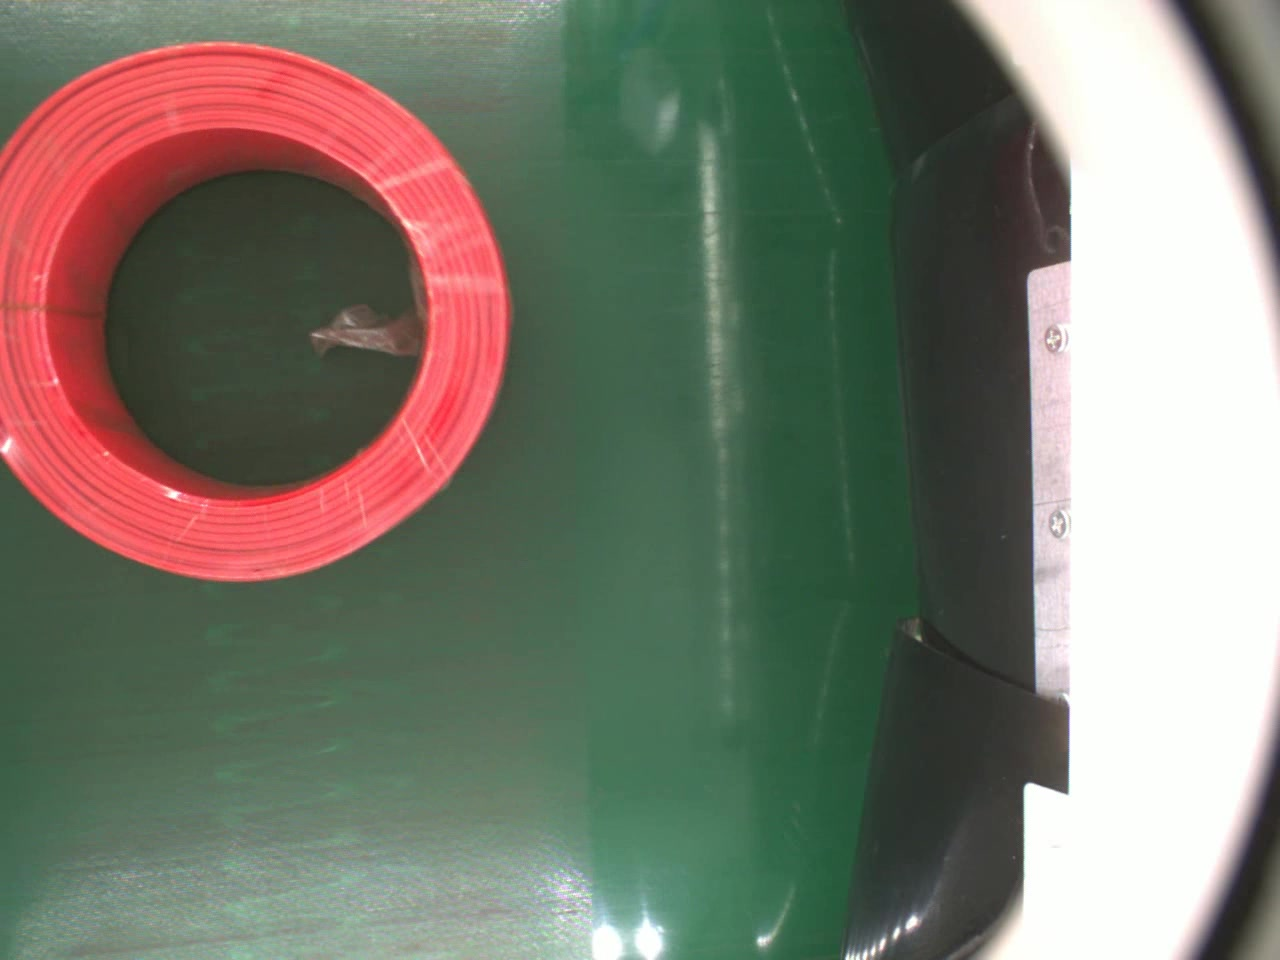red: (0, 36, 515, 585)
